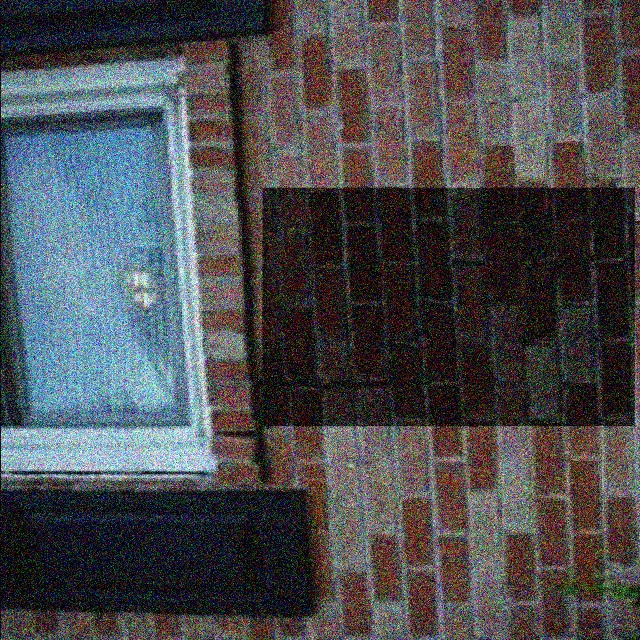SurfaceCrack: (248, 184, 632, 410)
